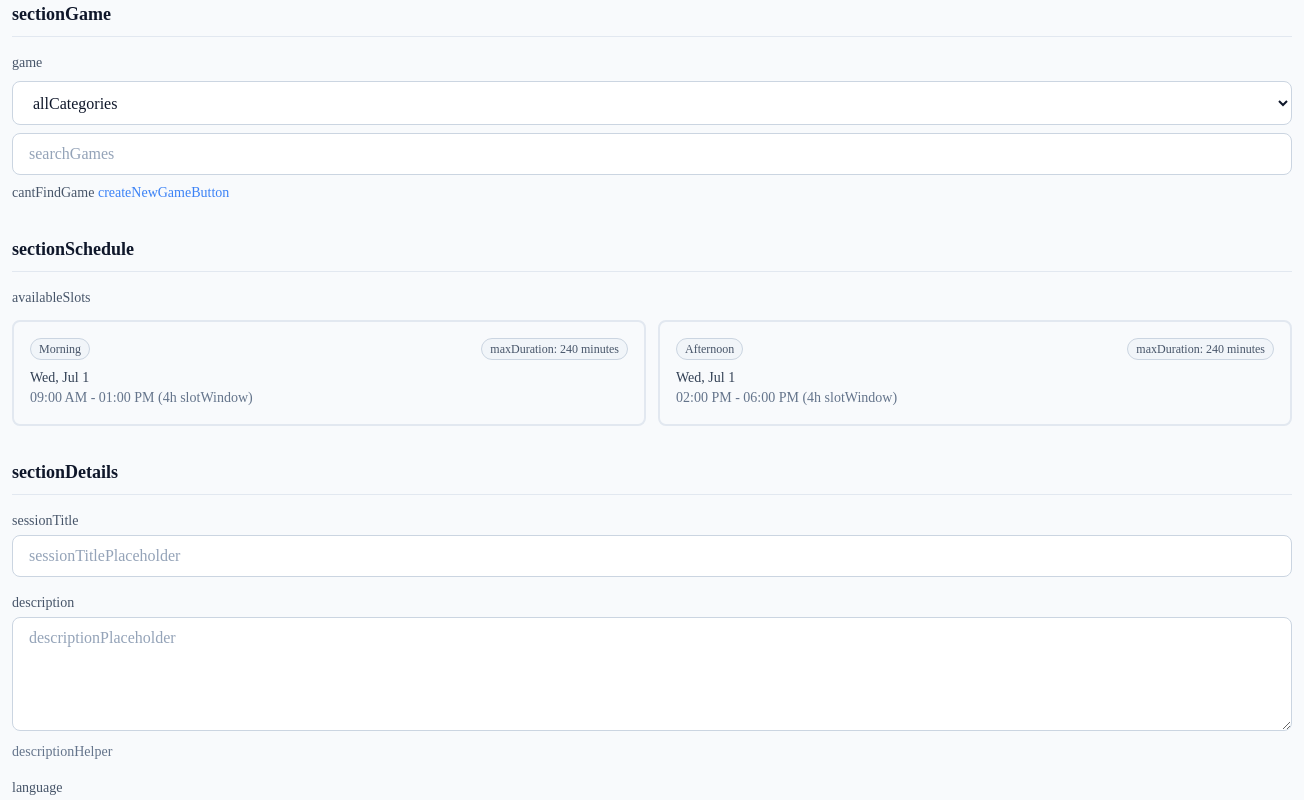
it: GameSelector › shows search results
The width and height of the screenshot is (1304, 800).
Type "Call" into the search field with placeholder "searchGames" at (652, 154), box [12,133,1292,175]
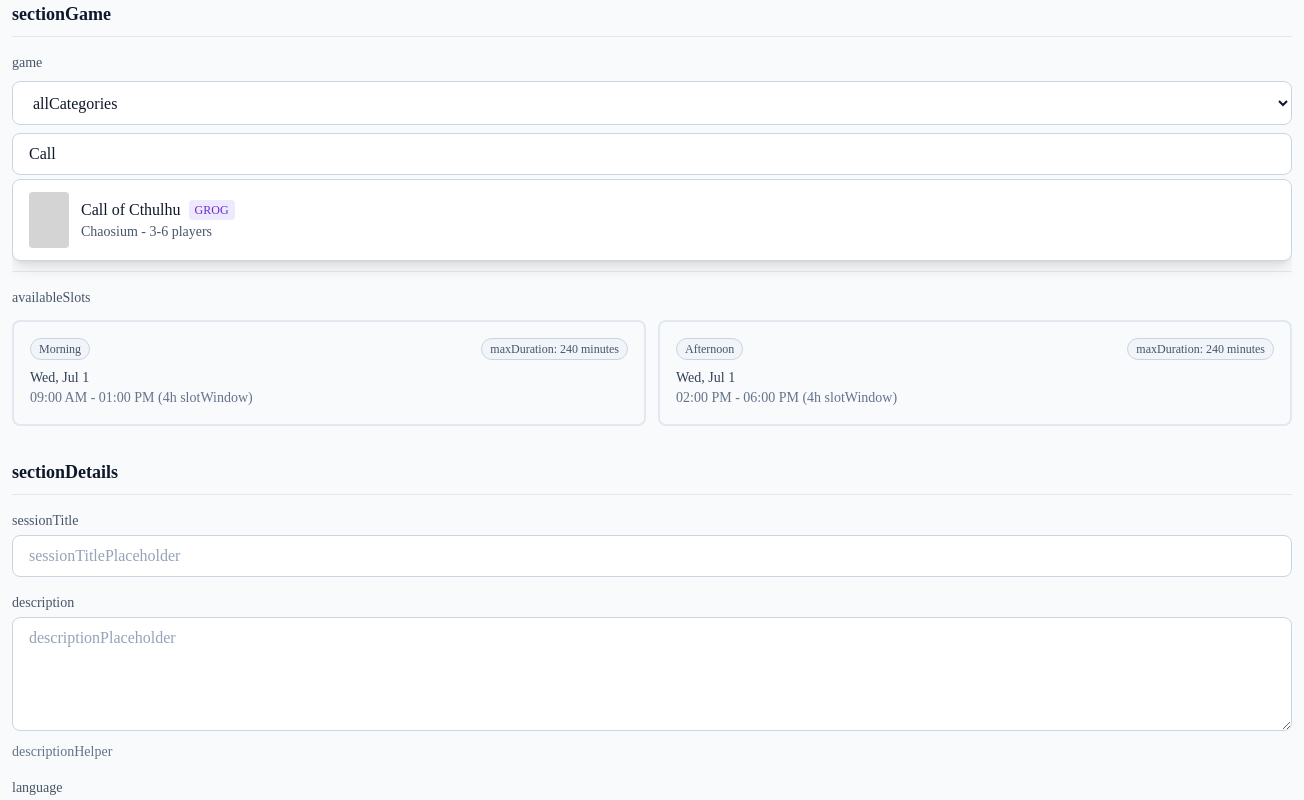
Check: the text "Call of Cthulhu" is shown, box [81,198,181,222]
